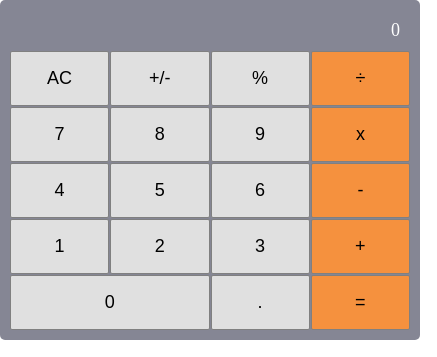
Calculator Component › updates display when buttons are clicked
Note: Click some buttons
Click the button "7" at (60, 134), box [10,107,109,162]
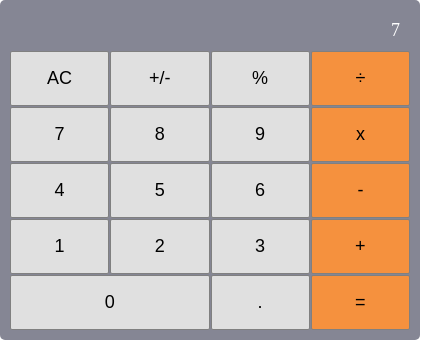
Click the button "+" at (360, 246), box [311,219,410,274]
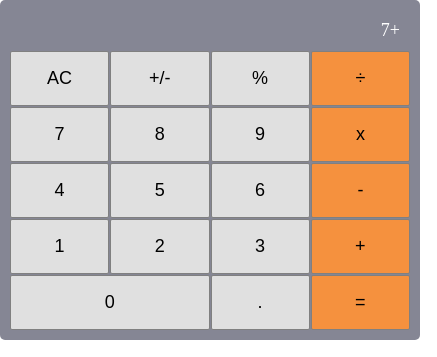
Click the button "3" at (260, 246), box [210,219,310,274]
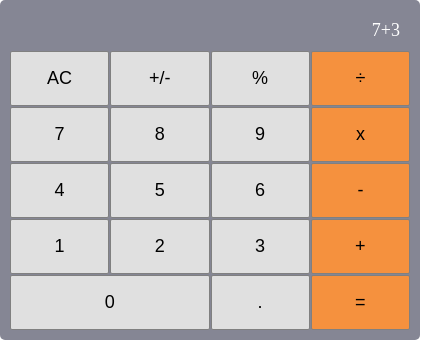
Click the button "=" at (360, 302), box [311,275,410,330]
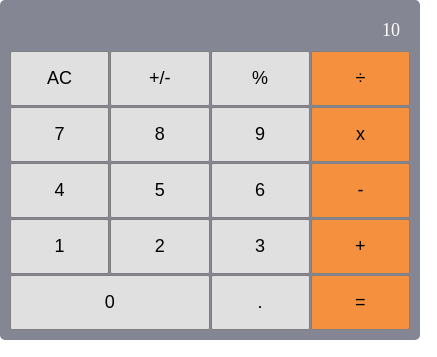
Expected: the text with test id "displayScreen" reads "10", [382,20,400,40]
